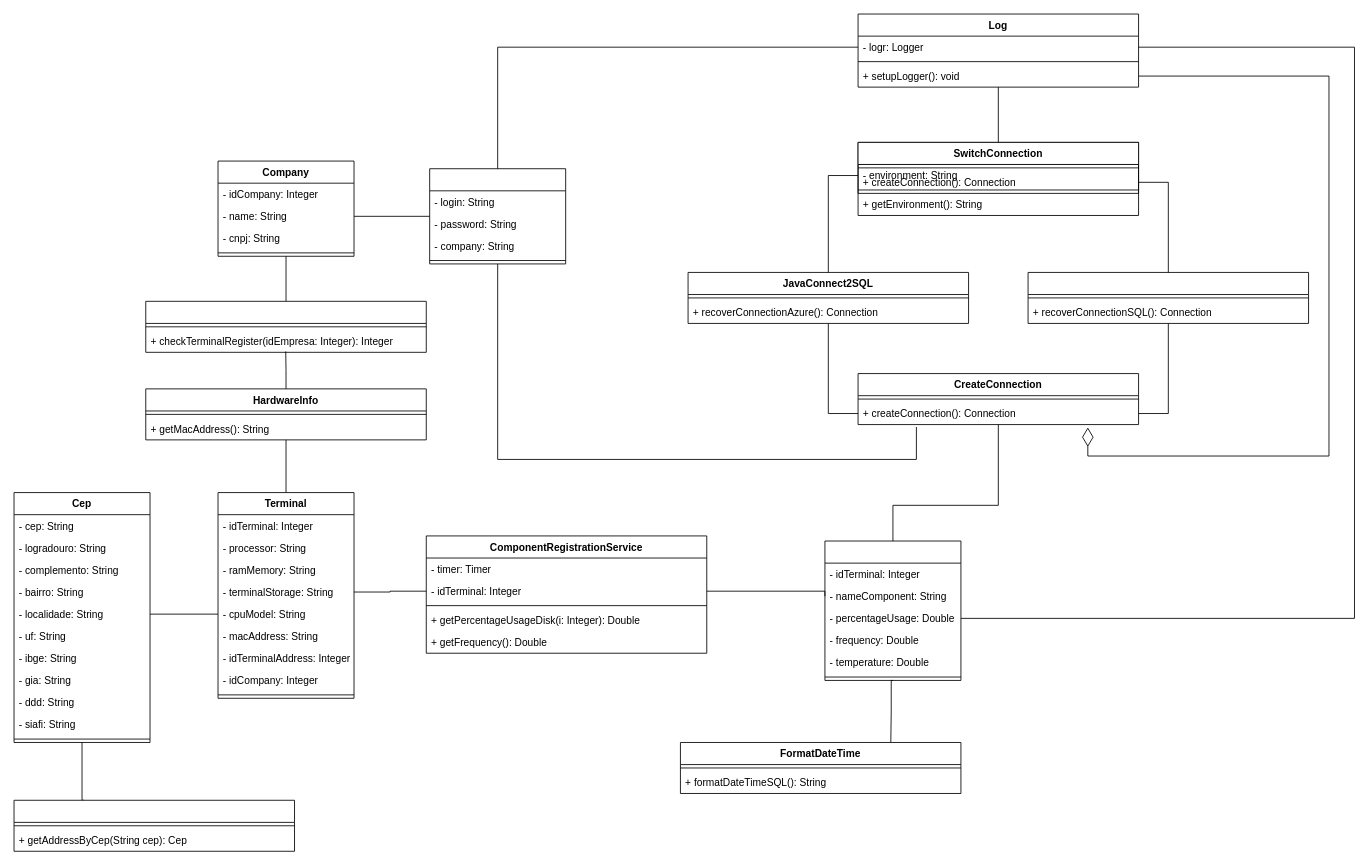
The diagram is 1369 pixels wide and 865 high, and some of its shapes have lost their labels. The shapes that lost their labels are listed below. From the top down, each one's box as (x1, y1, x2, y2) in pixels, then its label:
(429, 168, 566, 264): EmployeeLogin
(1027, 272, 1309, 323): ConnectionFactory
(145, 300, 426, 352): TerminalService
(824, 540, 961, 680): ComponentRegistration
(13, 799, 295, 851): ClientCep
